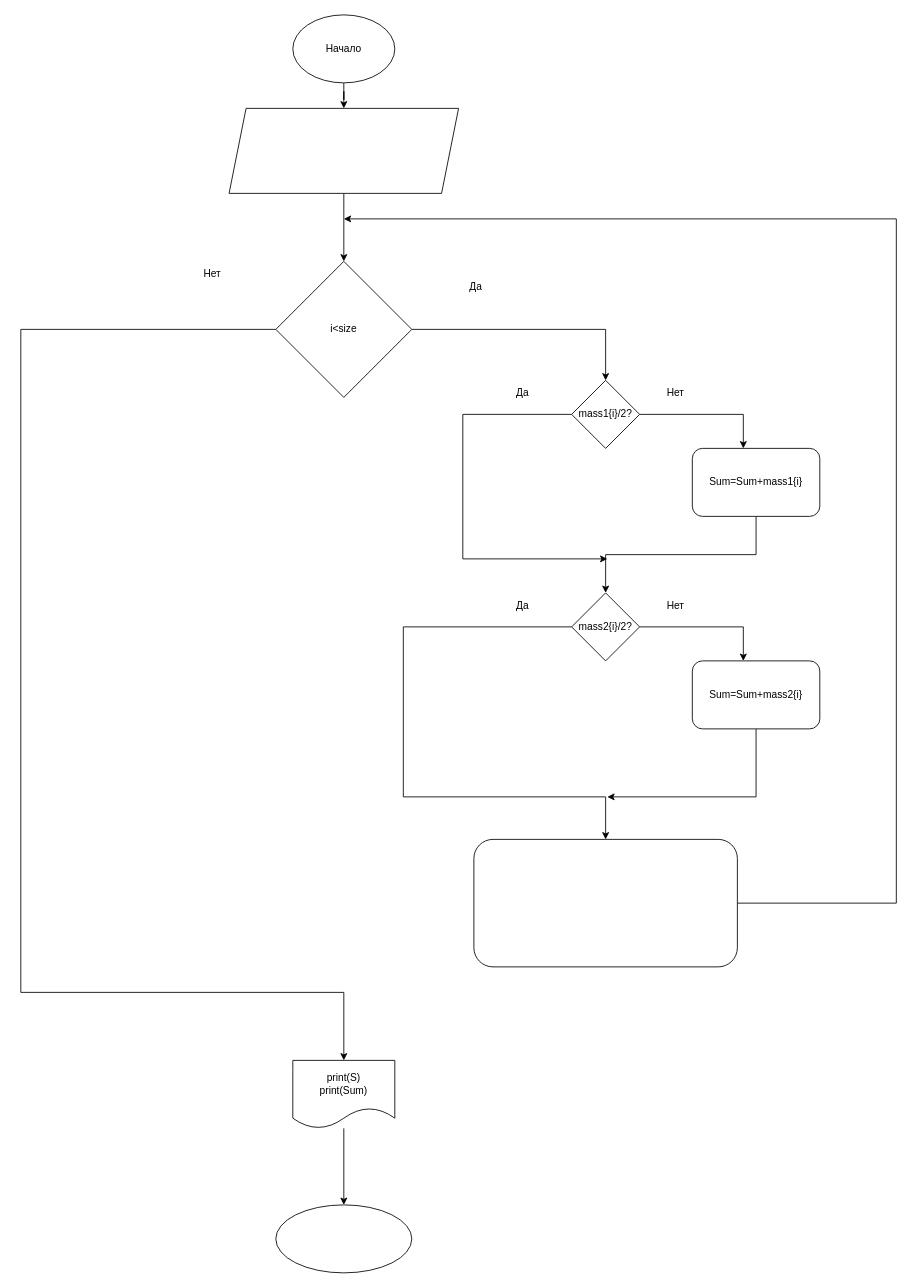
This 918x1288 diagram has some shape labels left out. The centre of each missing label's shape, as x and y in pixels:
"int Q W E R T Y mass1={Q W E} mass2={R T Y} int i=0 int size=3 int S=0 int Sum=0" goes at [343,150].
"S=S+mass1{i}*mass2{i} i=i+1" goes at [605,903].
"Конец" goes at [343,1238].
